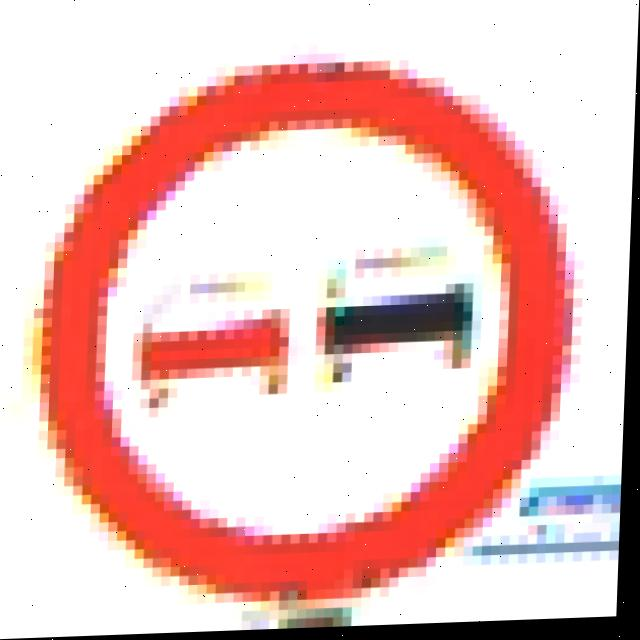no_overtaking: (33, 54, 592, 612)
